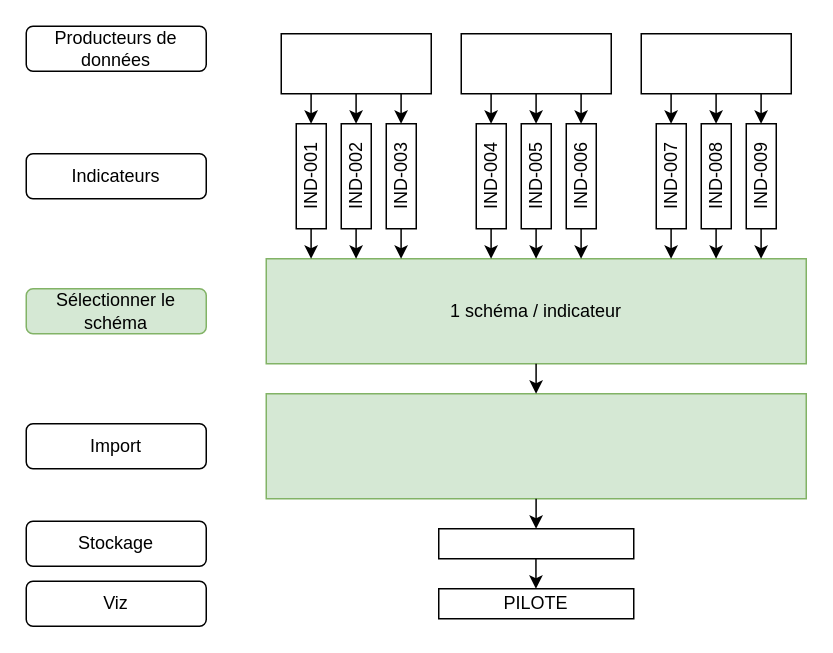
The diagram is 833 pixels wide and 653 high, and some of its shapes have lost their labels. Here are the shapes that lost their labels. From the top down, the centre of each, then its label:
At pixel 355 63: "Ministère 1".
At pixel 535 63: "Ministère 2".
At pixel 715 63: "Ministère 3".
At pixel 535 445: "1 plateforme d'import (UI ou API): Valider les données contre le schéma".
At pixel 535 543: "1 datalake".
